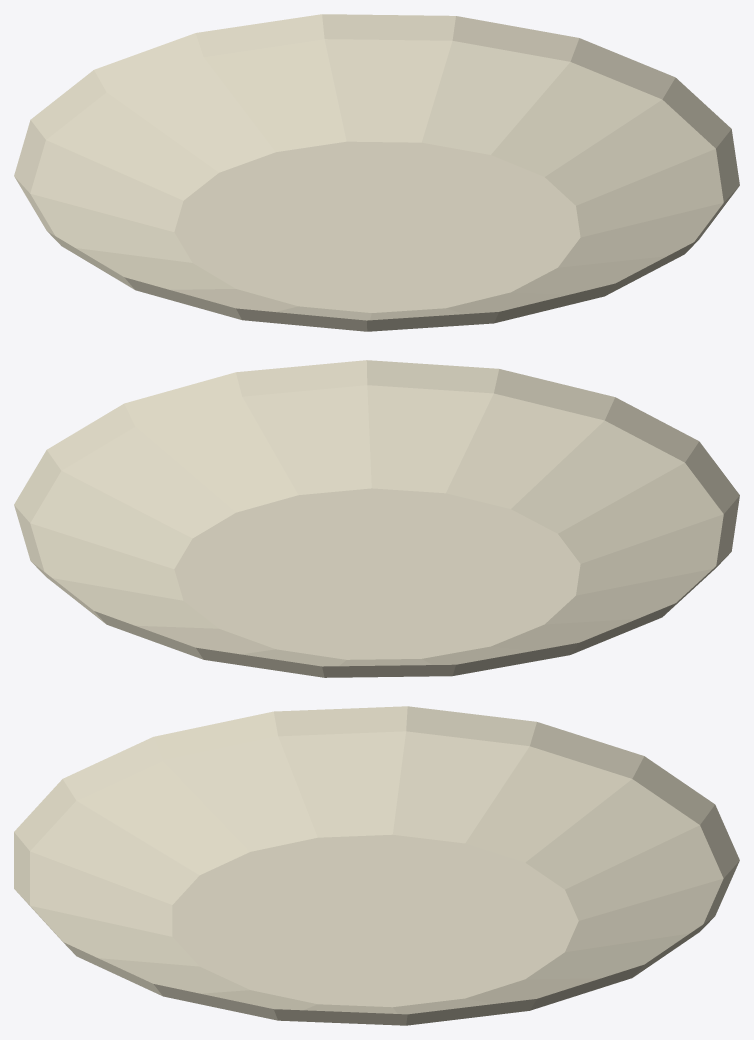
File: prato.dae
3 views of the same model, one above another, from view 1: azimuth 30°, elevation 25°; view 2: azimuth 150°, elevation 25°; view 3: azimuth 270°, elevation 25° (orthographic).
Parts seen in each view (by area): view 1: Circle_001; view 2: Circle_001; view 3: Circle_001.
Part boxes in pixels (x1,y1,x2,y2): Circle_001: (14,14,739,331); Circle_001: (14,360,739,677); Circle_001: (14,706,739,1025).
Bounding box in the file's own units: 3.56 × 3.54 × 0.3268.
